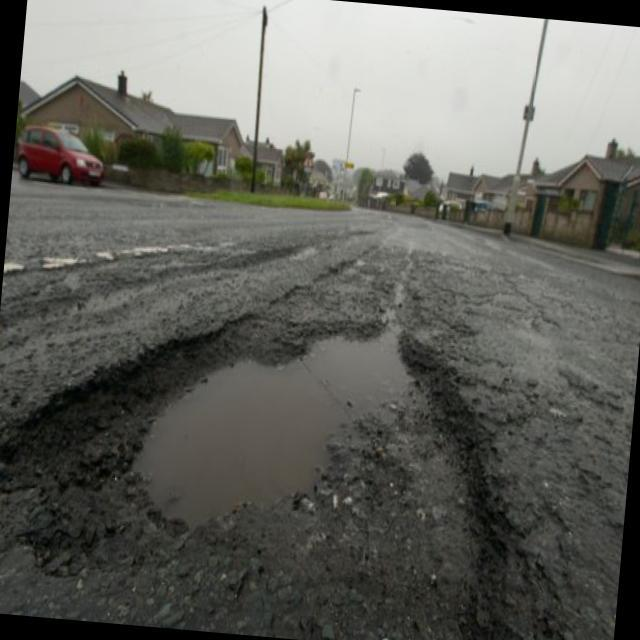Pothole: (98, 286, 519, 568)
